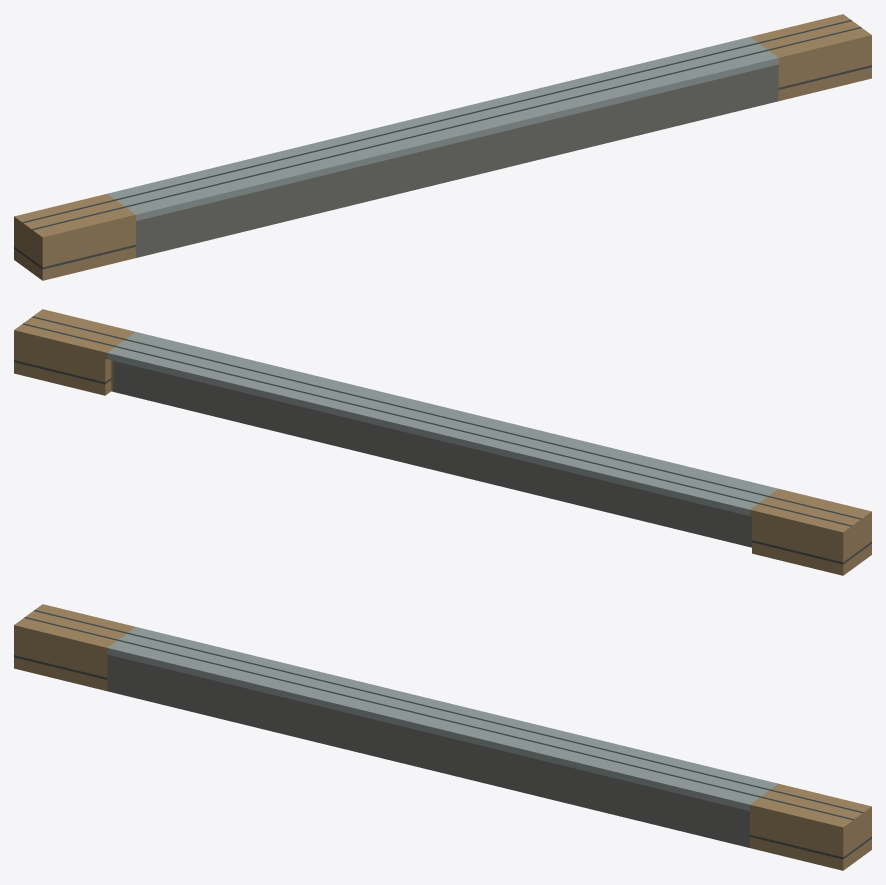
File: mall-escalator-floor-transition-2m-lod2.glb
3 views of the same model, one above another, from view 1: azimuth 30°, elevation 25°; view 2: azimuth 150°, elevation 25°; view 3: azimuth 330°, elevation 25° (orthographic).
Parts seen in each view (by area): view 1: PROFILE_TerminalReturn_LOD2; view 2: PROFILE_TerminalReturn_LOD2; view 3: PROFILE_TerminalReturn_LOD2.
Boxes of the visible parts, left/top/right/bottom form: PROFILE_TerminalReturn_LOD2: left=14, top=14, right=871, bottom=280; PROFILE_TerminalReturn_LOD2: left=14, top=309, right=871, bottom=575; PROFILE_TerminalReturn_LOD2: left=14, top=604, right=871, bottom=870.
Size of the model in its own units: 2 by 0.1 by 0.12.
